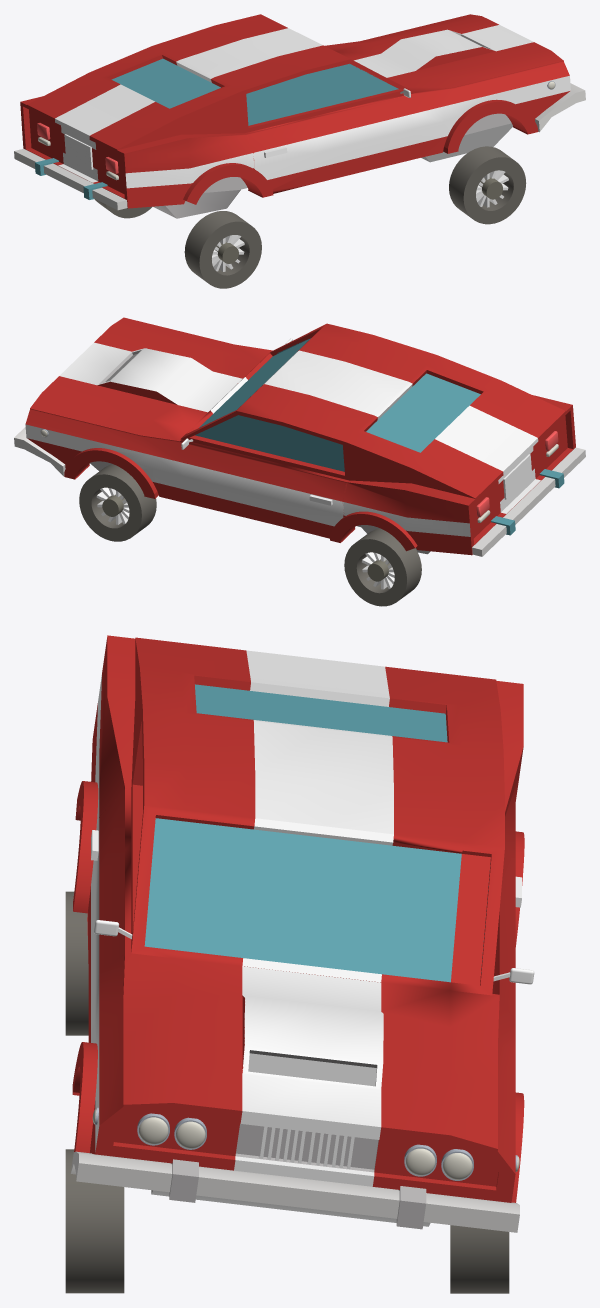
The model's file is car_legk.glb.
3 renders of one model, top to bottom at view 1: azimuth 30°, elevation 25°; view 2: azimuth 150°, elevation 25°; view 3: azimuth 270°, elevation 25°, orthographic. The views are drawn at different scales.
Visible parts, largest first — view 1: Object_3.001, Object_3.002; view 2: Object_3.001, Object_3.002; view 3: Object_3.001, Object_3.002.
Part boxes in pixels (bbox=[...]): Object_3.001: bbox=[14, 14, 585, 218]; Object_3.002: bbox=[94, 146, 526, 288]; Object_3.001: bbox=[14, 317, 585, 556]; Object_3.002: bbox=[79, 464, 421, 606]; Object_3.001: bbox=[70, 635, 534, 1232]; Object_3.002: bbox=[65, 891, 509, 1293].
Size of the model in its own units: 2 by 0.7312 by 0.8619.
